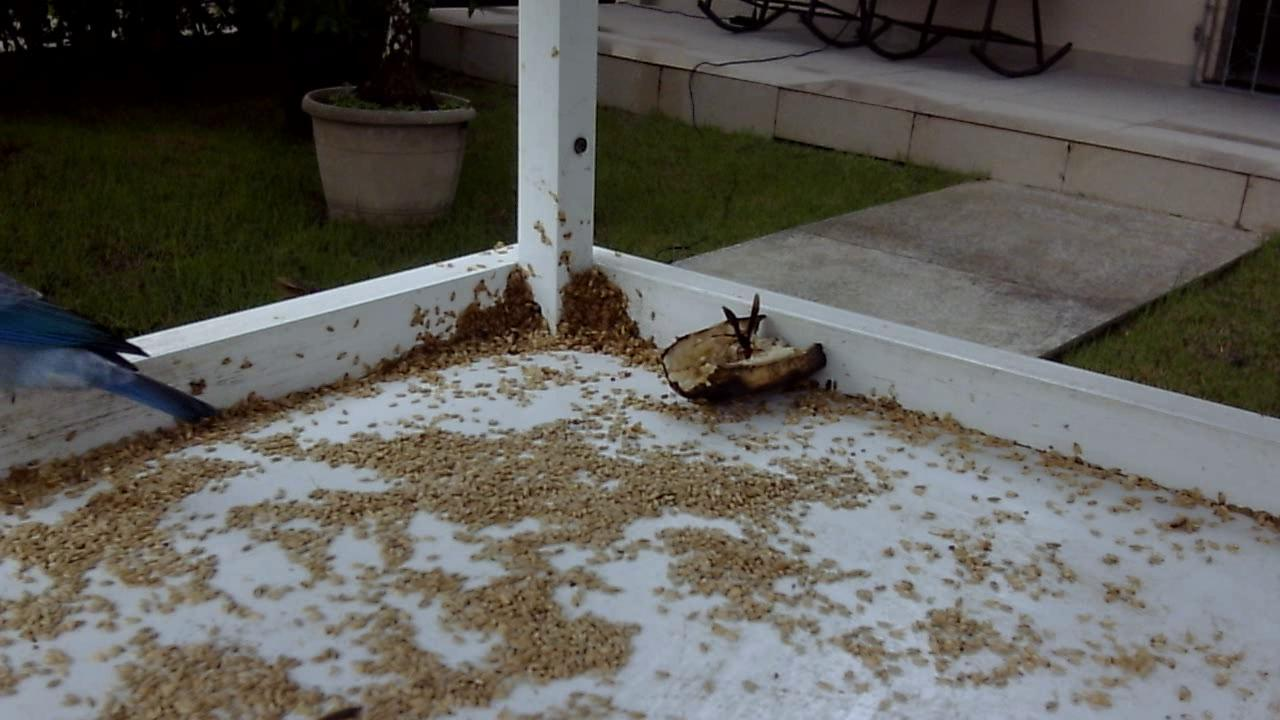sanhaco_da_amazonia: (4, 269, 225, 471)
